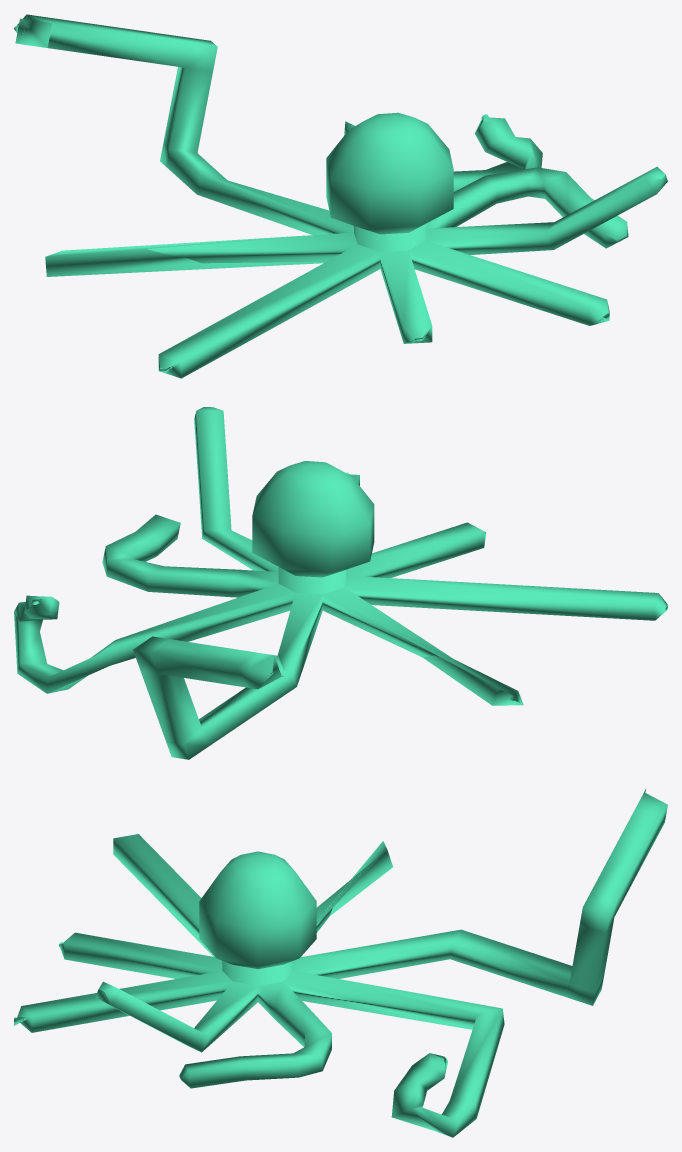
File: 3D_Kraken1glb.glb
The picture shows the model from 3 angles, top to bottom: view 1: azimuth 30°, elevation 25°; view 2: azimuth 150°, elevation 25°; view 3: azimuth 270°, elevation 25°; orthographic projection. The views are drawn at different scales.
Visible parts, largest first — view 1: Cylinder; view 2: Cylinder; view 3: Cylinder.
Boxes of the visible parts, x1,y1,x2,y2 form: Cylinder: (14,14,667,378); Cylinder: (14,407,667,759); Cylinder: (14,789,667,1137).
Size of the model in its own units: 16.4 by 5.72 by 18.29.
